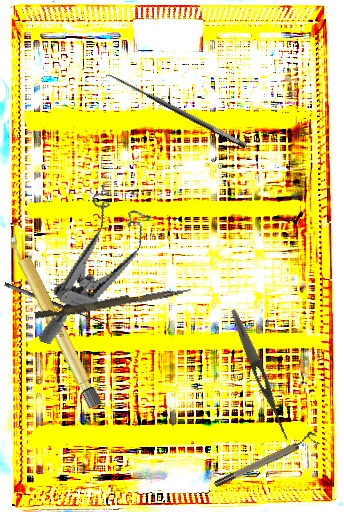Dressing Forceps: (227, 307, 294, 443)
Fixation Ring: (210, 429, 321, 490)
Hook Surgical: (100, 68, 248, 160), (3, 273, 112, 330)
Pusher: (34, 282, 192, 323)
Scalpel Handle: (5, 231, 103, 410)
Speculum: (38, 180, 156, 362)
